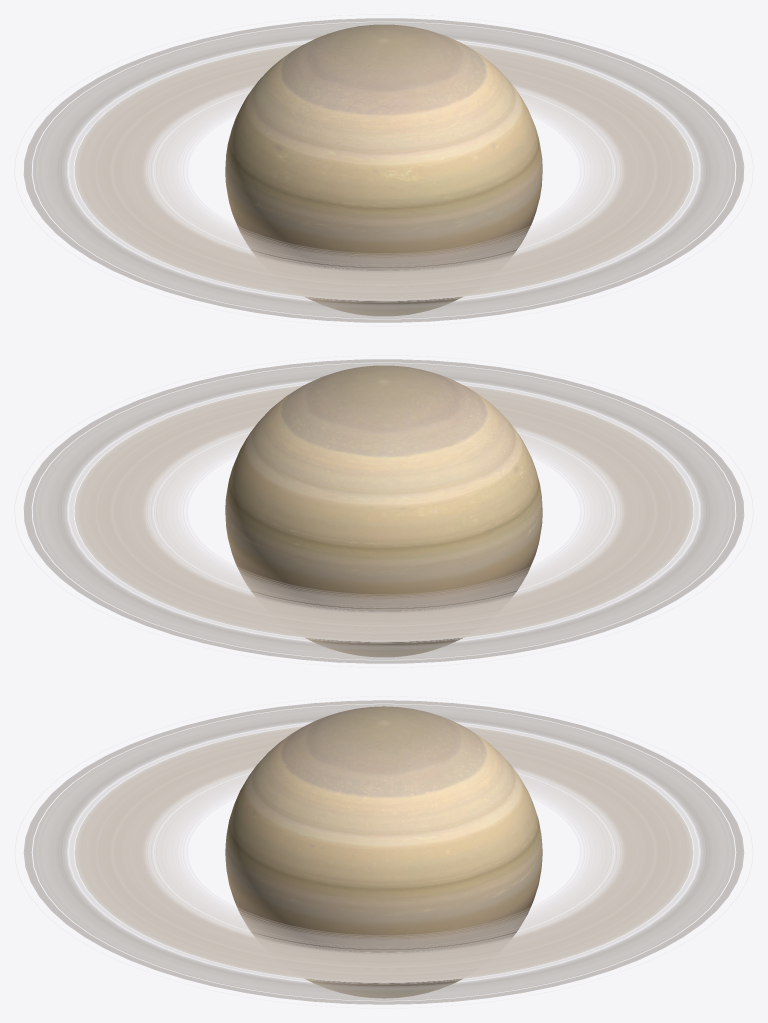
The model's file is saturn.glb.
The picture shows the model from 3 angles, top to bottom: view 1: azimuth 30°, elevation 25°; view 2: azimuth 150°, elevation 25°; view 3: azimuth 270°, elevation 25°; orthographic projection.
Parts seen in each view (by area): view 1: RingsTop, Saturn.001; view 2: RingsTop, Saturn.001; view 3: RingsTop, Saturn.001.
Boxes of the visible parts, x1=… form: RingsTop: x1=23, y1=18, x2=744, y2=322; Saturn.001: x1=225, y1=24, x2=542, y2=315; RingsTop: x1=23, y1=359, x2=744, y2=663; Saturn.001: x1=225, y1=365, x2=542, y2=656; RingsTop: x1=23, y1=700, x2=744, y2=1004; Saturn.001: x1=225, y1=706, x2=542, y2=998.
Bounding box in the file's own units: 2331 × 902 × 2331.
2 materials, 2 textured.
